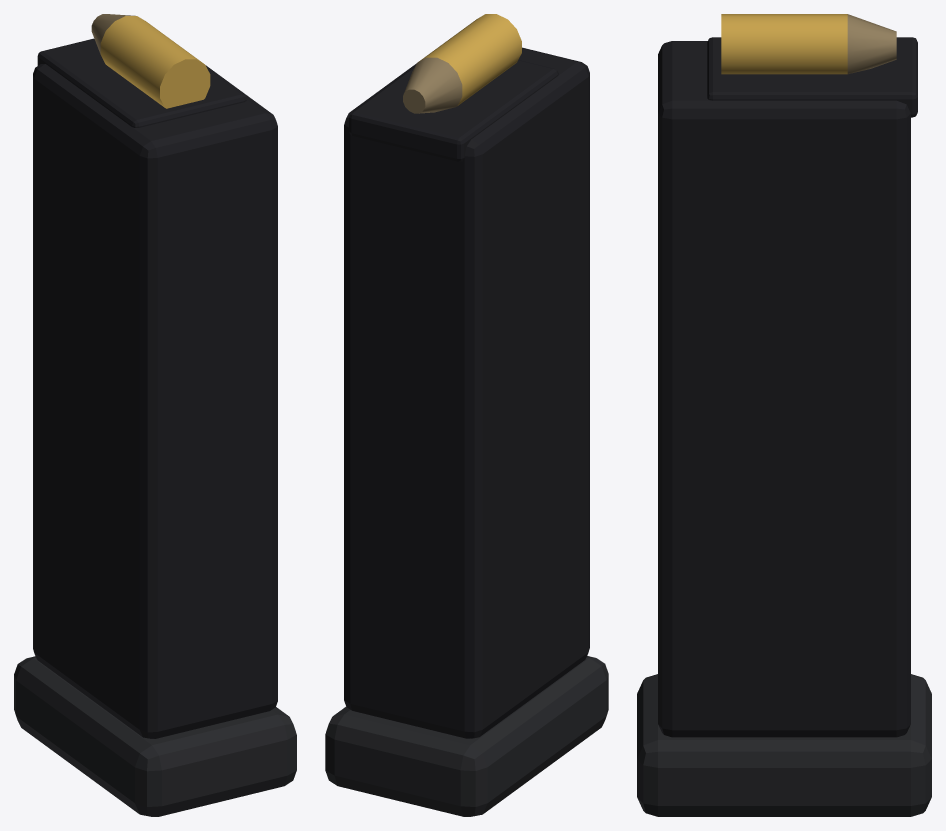
Rendered from pistola_cargador.glb.
3 views of the same model, side by side, from view 1: azimuth 30°, elevation 25°; view 2: azimuth 150°, elevation 25°; view 3: azimuth 270°, elevation 25° (orthographic). The views are drawn at different scales.
Visible parts, largest first — view 1: pistola_cargador; view 2: pistola_cargador; view 3: pistola_cargador.
Part boxes in pixels (x1,y1,x2,y2): pistola_cargador: (14, 14, 296, 816); pistola_cargador: (325, 14, 608, 816); pistola_cargador: (637, 14, 931, 816).
Size of the model in its own units: 0.028 by 0.1205 by 0.042.
